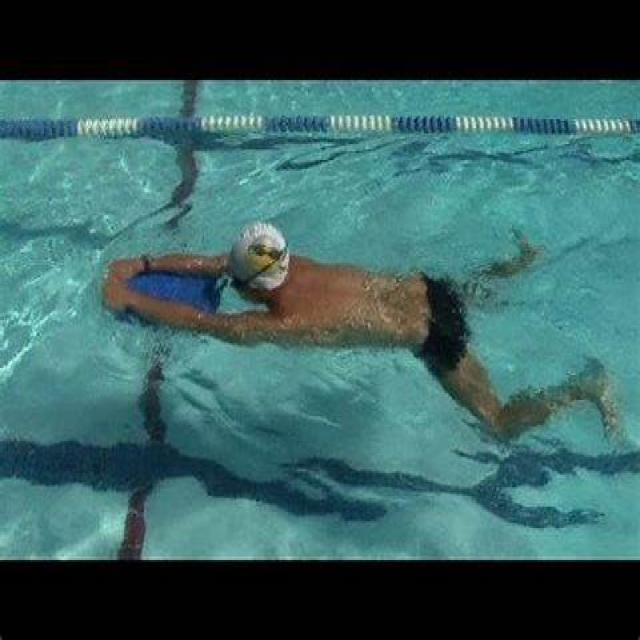swimming: (101, 218, 630, 476)
